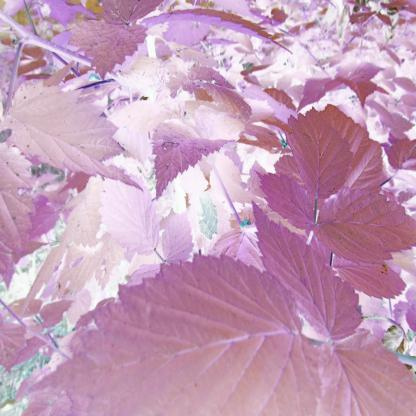Raspberry leaf: (247, 199, 367, 340), (310, 184, 416, 268), (286, 107, 349, 202), (254, 163, 316, 232)
